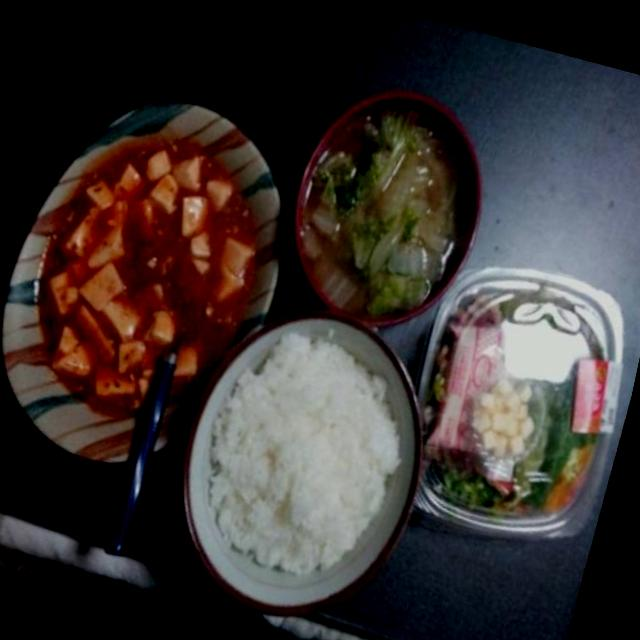Rice: (180, 315, 422, 595)
